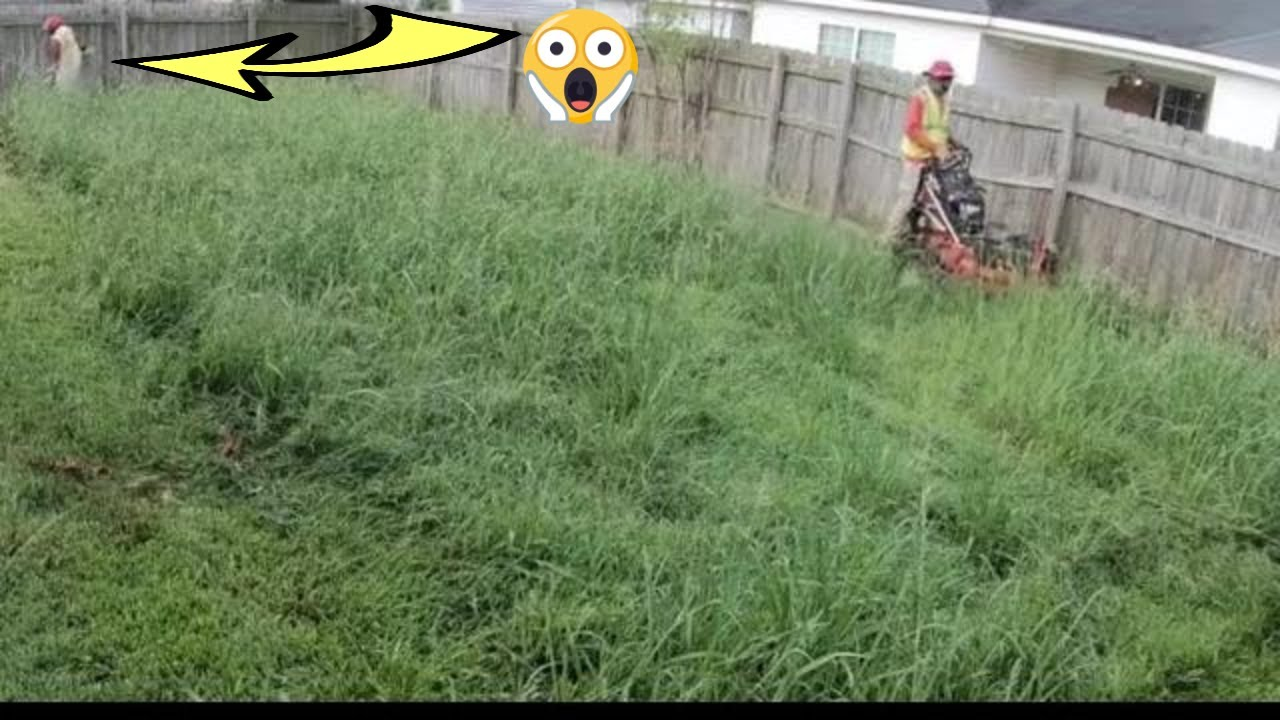grass: (6, 293, 1273, 695)
